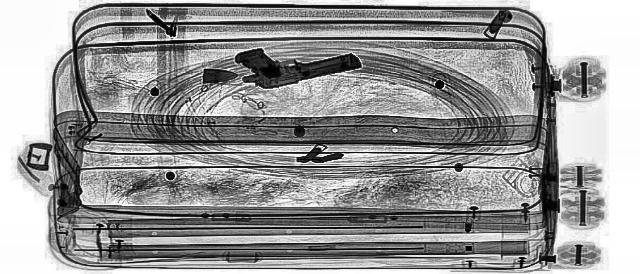Gun: (211, 34, 369, 90)
